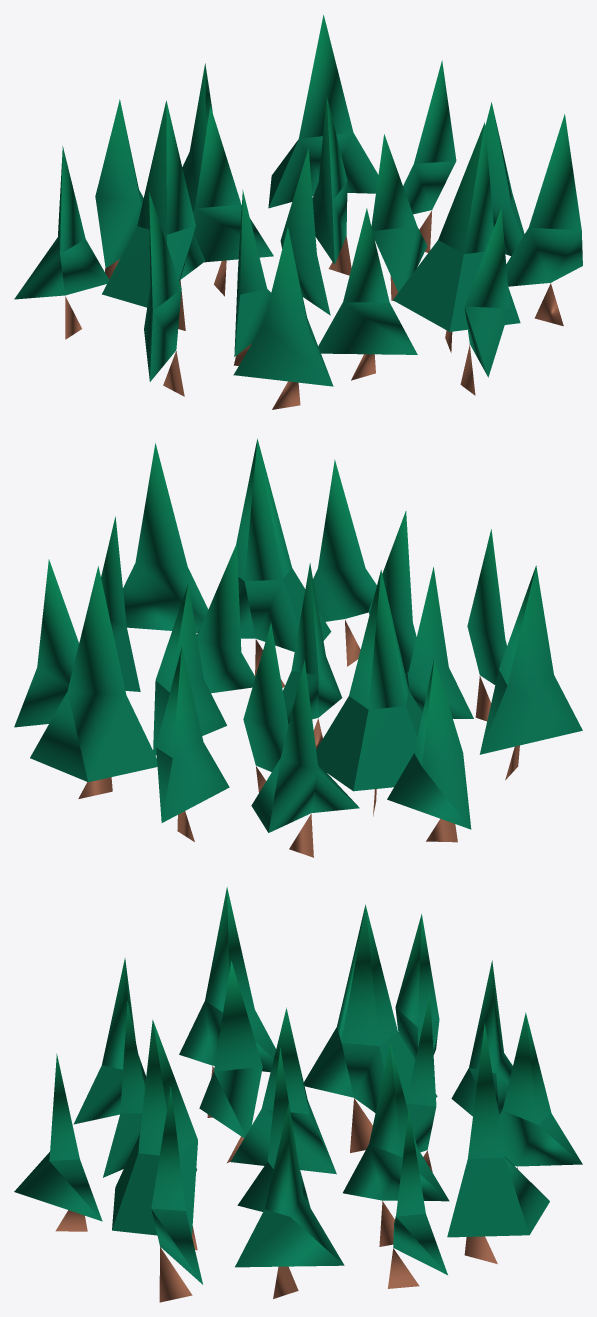
File: trees_large-small.glb
3 renders of one model, top to bottom at view 1: azimuth 30°, elevation 25°; view 2: azimuth 150°, elevation 25°; view 3: azimuth 270°, elevation 25°, orthographic. The views are drawn at different scales.
Visible parts, largest first — view 1: trees_A_large; view 2: trees_A_large; view 3: trees_A_large.
Boxes of the visible parts, x1,y1,x2,y2 form: trees_A_large: (14,15,582,409); trees_A_large: (14,438,582,857); trees_A_large: (14,887,582,1302).
Bounding box in the file's own units: 1.95 × 0.9264 × 1.97.
1 material, 1 textured.
